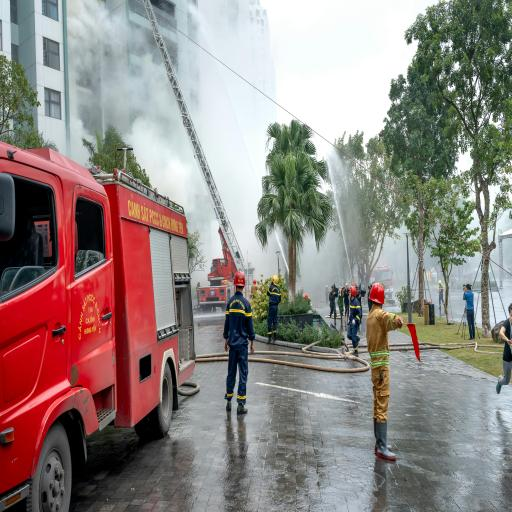smoke: (152, 0, 432, 273), (18, 0, 219, 259)
